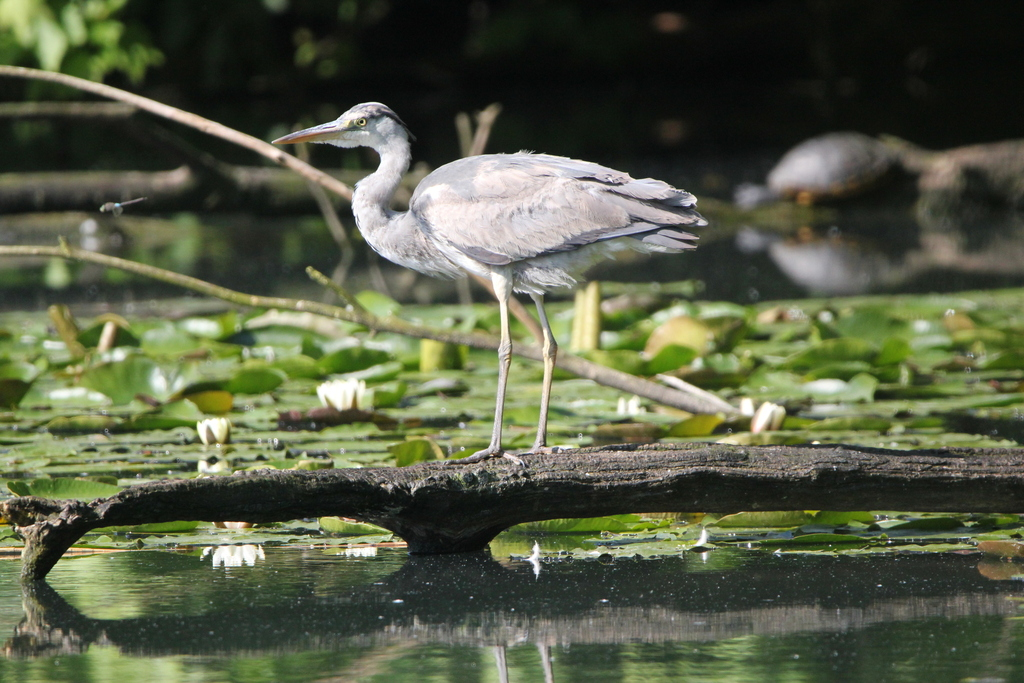heron: (266, 100, 714, 473)
